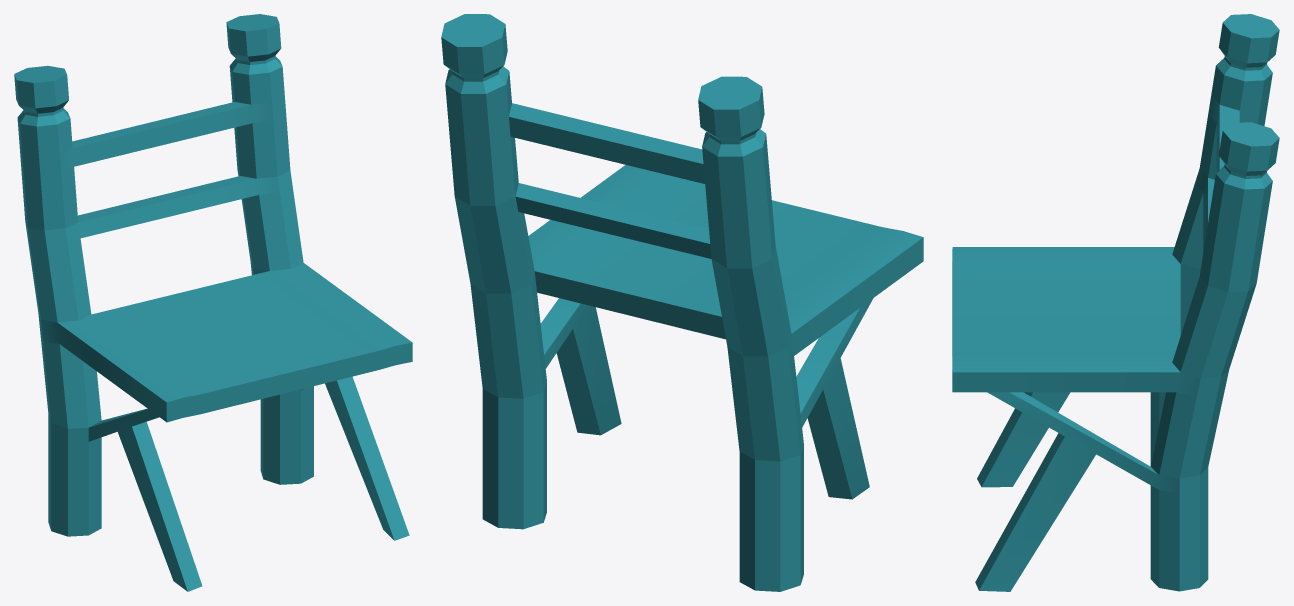
The model's file is chair_blue.fbx.
3 views of the same model, side by side, from view 1: azimuth 30°, elevation 25°; view 2: azimuth 150°, elevation 25°; view 3: azimuth 270°, elevation 25° (orthographic). The views are drawn at different scales.
Parts seen in each view (by area): view 1: chair_blue1; view 2: chair_blue1; view 3: chair_blue1.
Boxes of the visible parts, box(x1,y1,x2,y2) form: chair_blue1: box(14, 14, 412, 591); chair_blue1: box(441, 14, 923, 591); chair_blue1: box(952, 14, 1279, 591).
Size of the model in its own units: 2.81 by 4.34 by 2.87.
